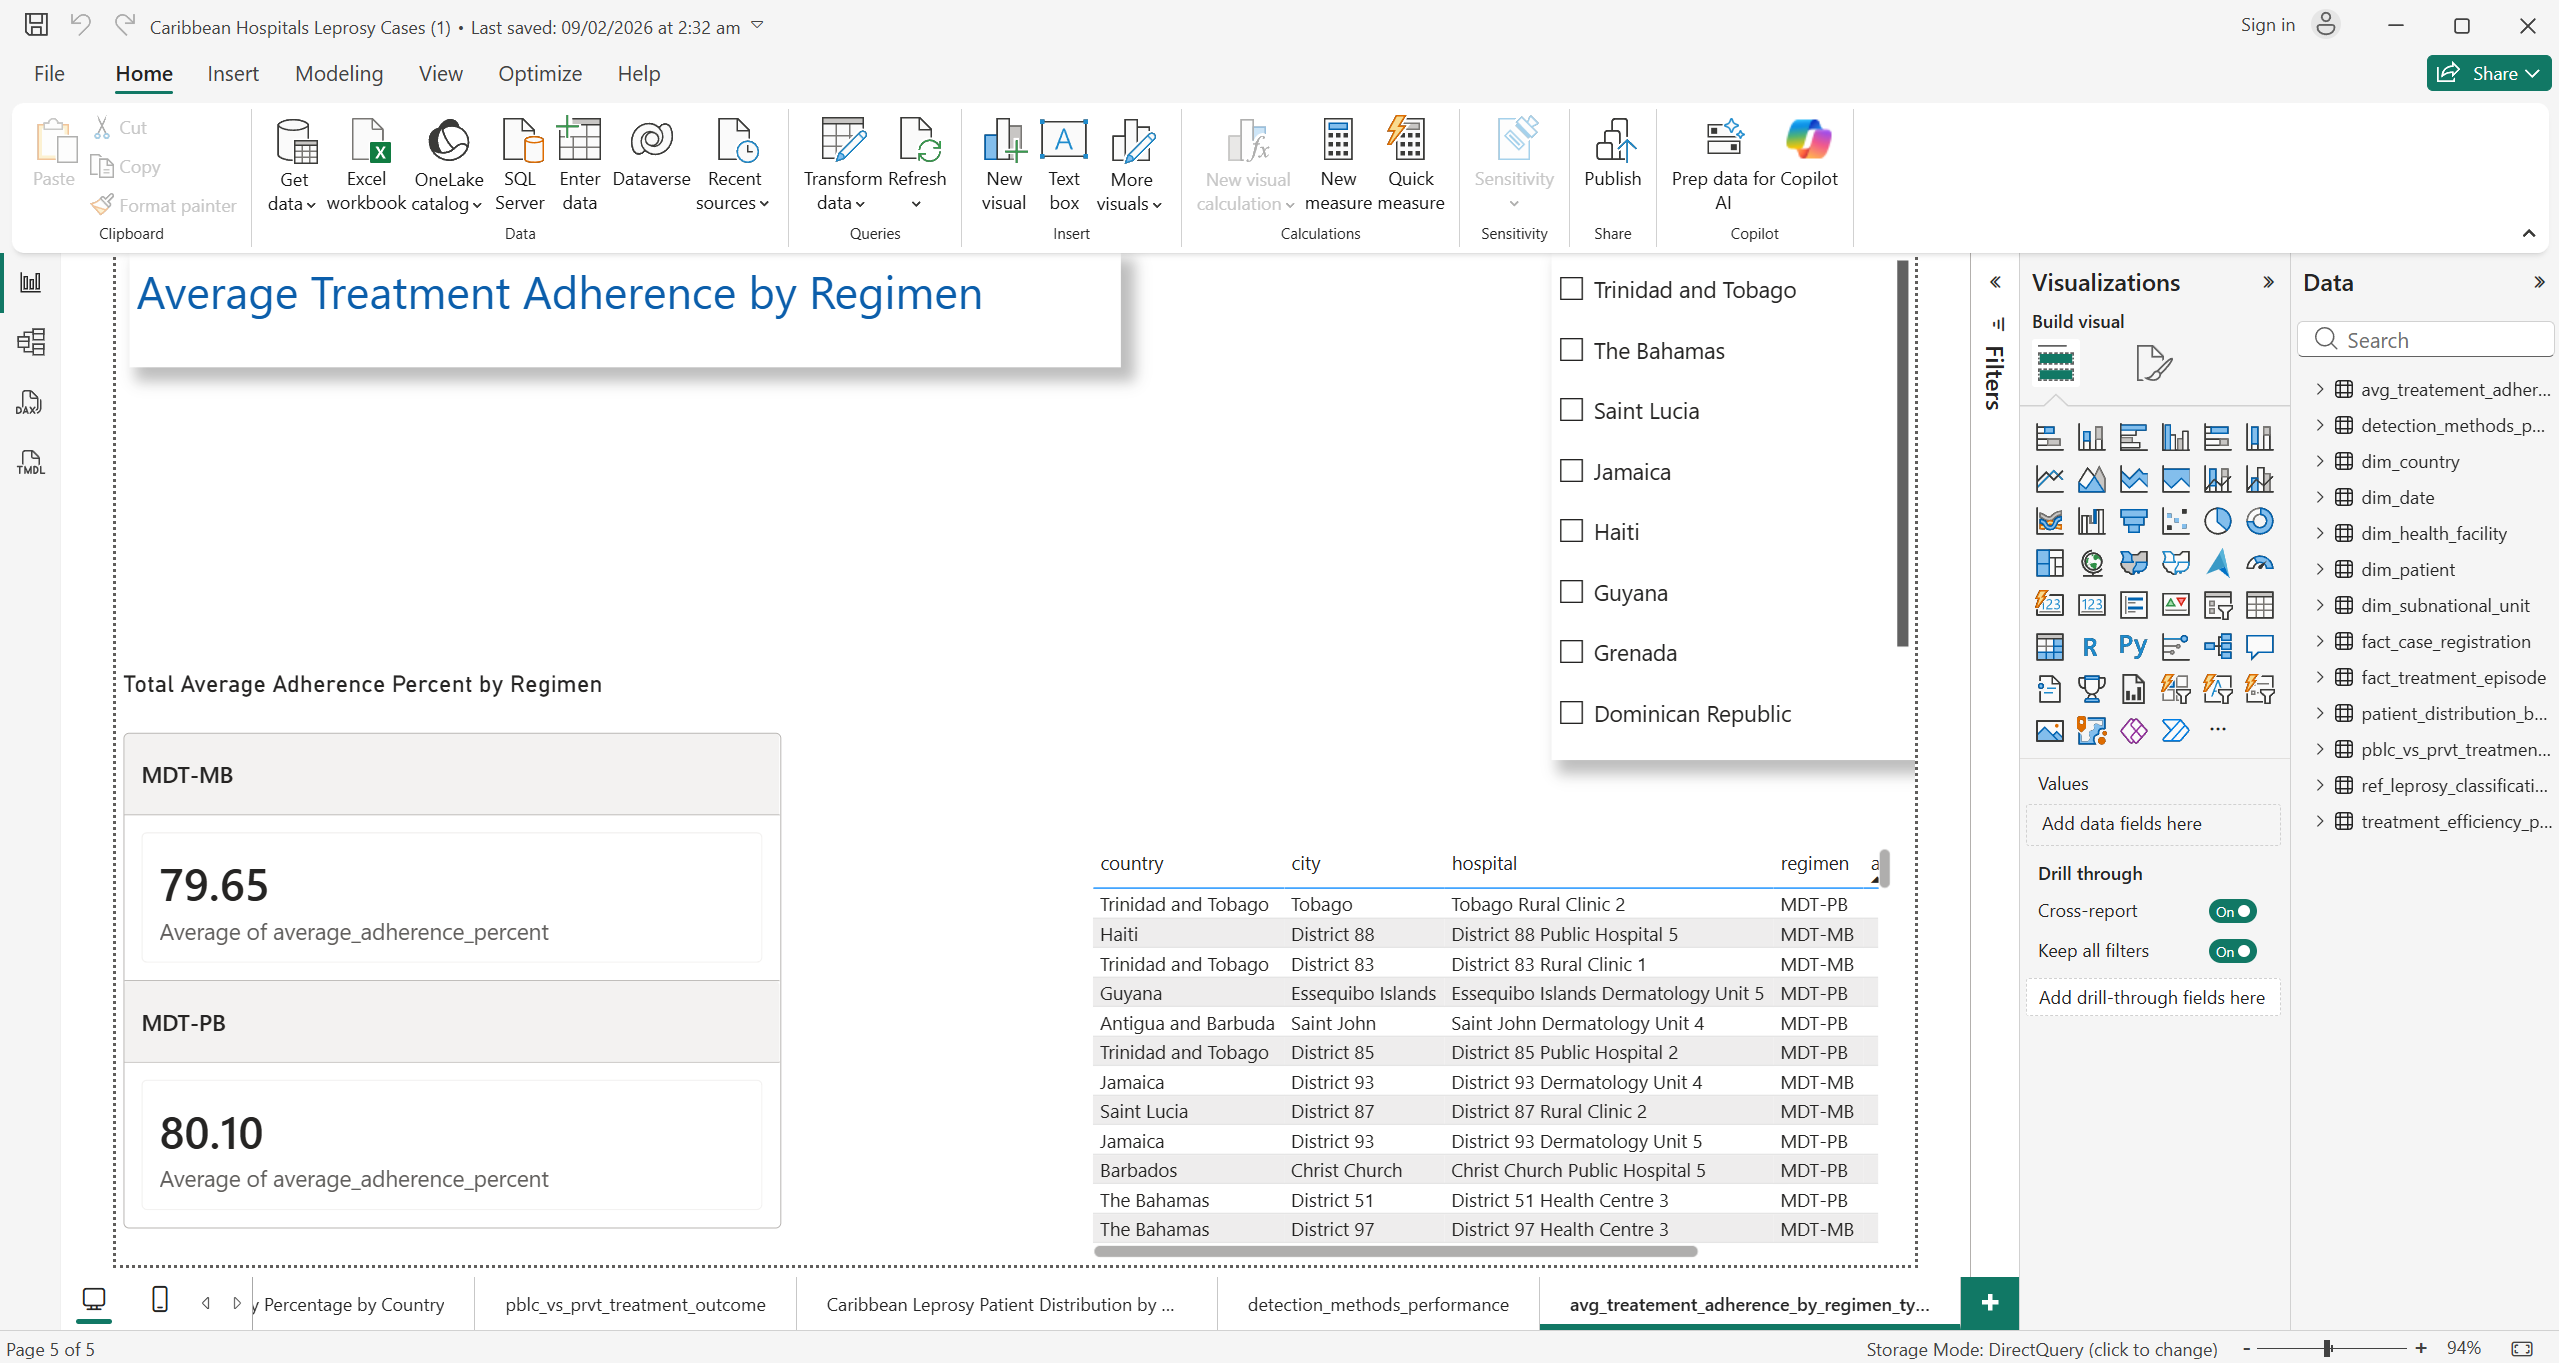

Layout of this report page (visuals, bound fields, positions):
{"tool":"powerbi","page":{"name":"avg_treatement_adherence_by_regimen_type","canvas":[1280,720],"ordinal":4},"visuals":[{"type":"tableEx","fields":{"Values":["avg_treatement_adherence_by_regimen_type.country","avg_treatement_adherence_by_regimen_type.city","avg_treatement_adherence_by_regimen_type.hospital","avg_treatement_adherence_by_regimen_type.regimen","avg_treatement_adherence_by_regimen_type.average_adherence_percent"]},"box":[689.1,418.2,578.4,301.5],"z":0},{"type":"listSlicer","fields":{"Values":["dim_country.country_name"]},"box":[1021.3,0,259.1,360.4],"z":1000},{"type":"cardVisual","title":"Total Average Adherence Percent by Regimen","fields":{"Rows":["avg_treatement_adherence_by_regimen_type.regimen"],"Data":["Avg(avg_treatement_adherence_by_regimen_type.average_adherence_percent)"]},"box":[0,296.8,478.2,422.9],"z":2000},{"type":"textbox","box":[9.4,0,705.6,81.3],"z":2001}]}

Visuals, with their boxes on the page's 1280x720 design canvas (x1, y1, x2, y2). These are canvas units, not pixel positions in the 2559x1363 screenshot, which may show the page scaled, cropped or inside an application window:
tableEx - avg_treatement_adherence_by_regimen_type.country x avg_treatement_adherence_by_regimen_type.city: 689 418 1268 720
listSlicer - dim_country.country_name: 1021 0 1280 360
"Total Average Adherence Percent by Regimen" cardVisual: 0 297 478 720
textbox: 9 0 715 81
